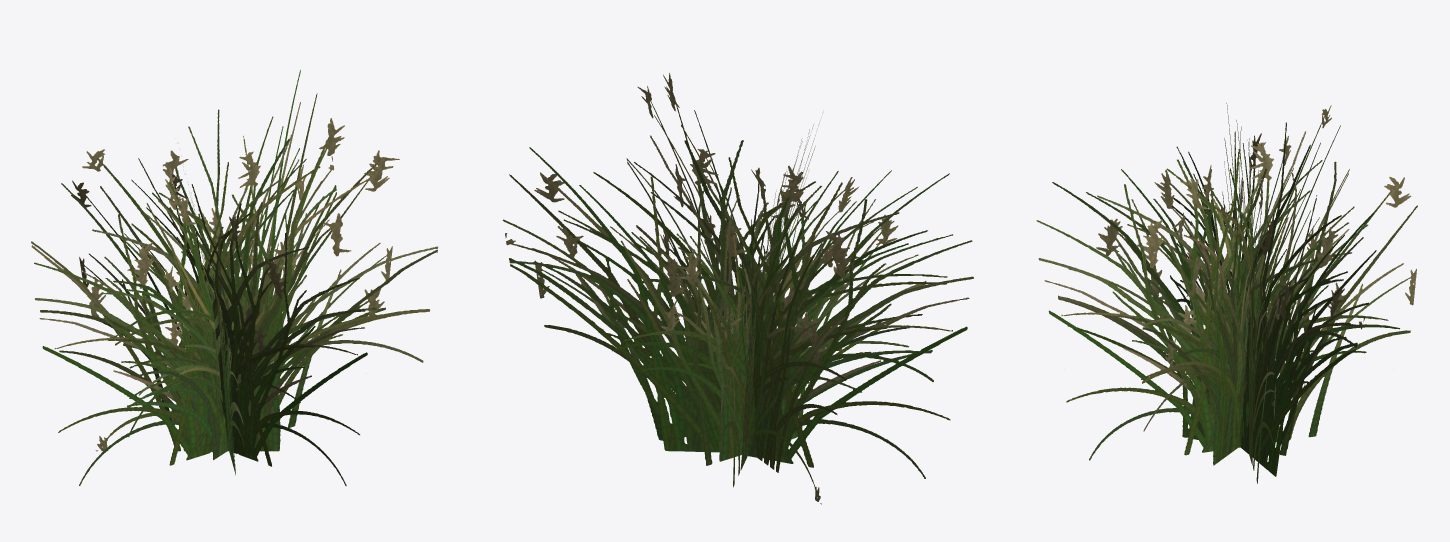
Rendered from trava_vysoka_1.glb.
The picture shows the model from 3 angles, left to right: view 1: azimuth 30°, elevation 25°; view 2: azimuth 150°, elevation 25°; view 3: azimuth 270°, elevation 25°; orthographic projection. The views are drawn at different scales.
Visible parts, largest first — view 1: trava_vysoka_1; view 2: trava_vysoka_1; view 3: trava_vysoka_1.
Boxes of the visible parts, x1,y1,x2,y2 form: trava_vysoka_1: [31, 70, 438, 485]; trava_vysoka_1: [502, 73, 973, 504]; trava_vysoka_1: [1036, 103, 1417, 483].
Size of the model in its own units: 1.25 by 0.9581 by 1.06.
Materials: 1 (1 with a texture image).
